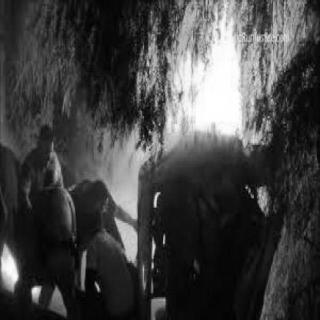Fire: (152, 189, 160, 207), (160, 232, 166, 244)
